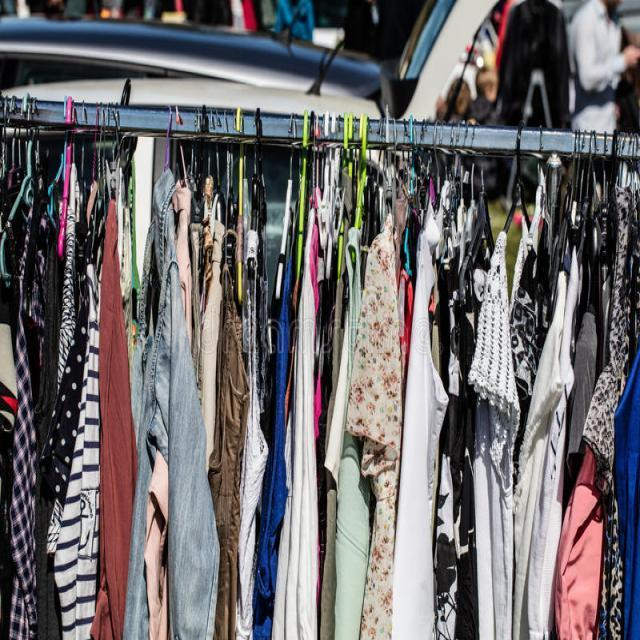clothes: (8, 220, 623, 638)
